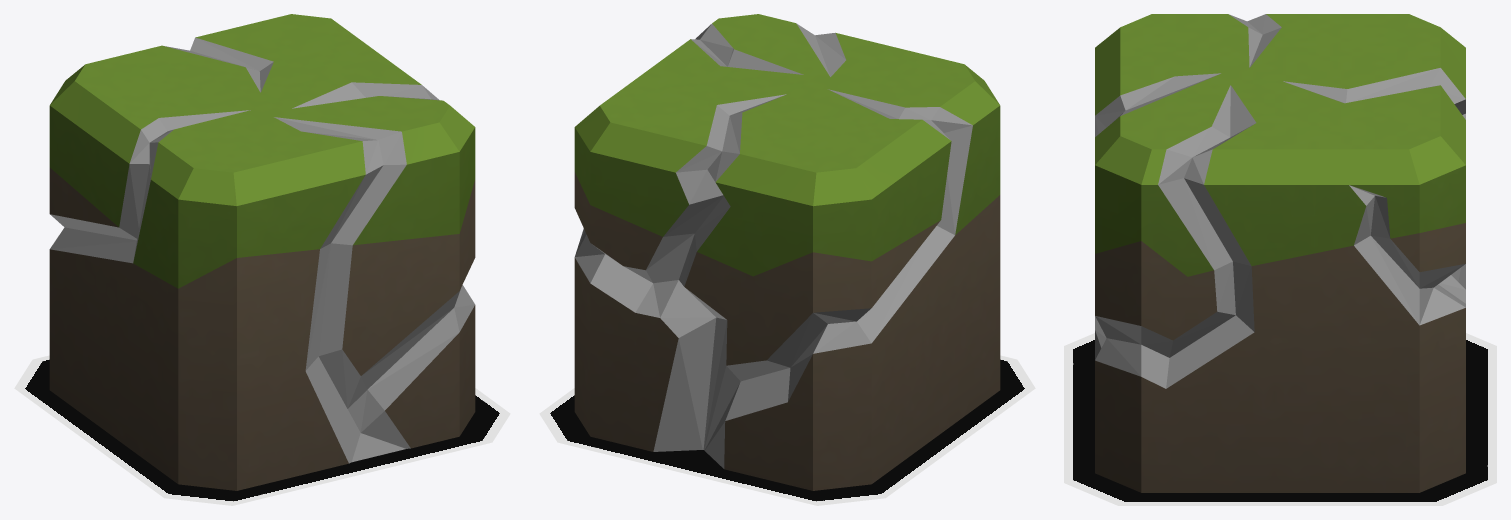
The model's file is breakable_wall.FBX.
3 views of the same model, side by side, from view 1: azimuth 30°, elevation 25°; view 2: azimuth 150°, elevation 25°; view 3: azimuth 270°, elevation 25° (orthographic). The views are drawn at different scales.
Parts seen in each view (by area): view 1: breakable_wall, breakable_wall_soft_shadow; view 2: breakable_wall, breakable_wall_soft_shadow; view 3: breakable_wall, breakable_wall_soft_shadow.
Boxes of the visible parts, x1,y1,x2,y2 form: breakable_wall: (49, 14, 475, 490); breakable_wall_soft_shadow: (14, 355, 510, 505); breakable_wall: (574, 14, 1000, 490); breakable_wall_soft_shadow: (539, 355, 1035, 505); breakable_wall: (1095, 14, 1465, 492); breakable_wall_soft_shadow: (1064, 333, 1496, 505).
Size of the model in its own units: 1166 by 1000 by 1166.
